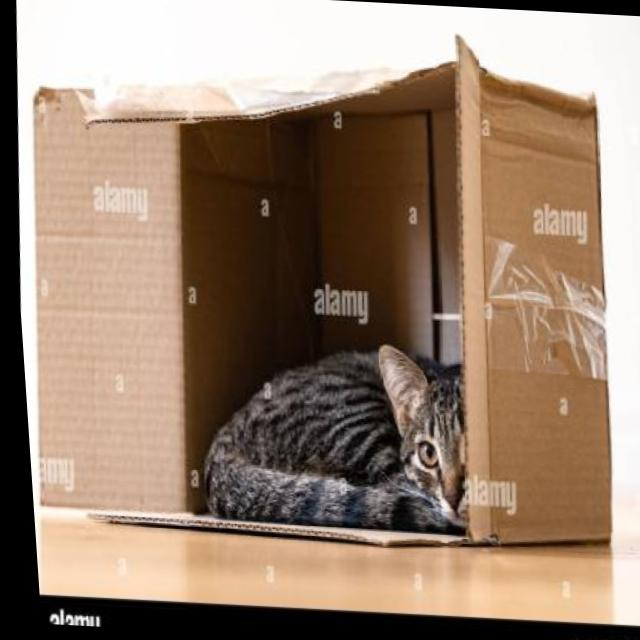box: (1, 22, 637, 598)
